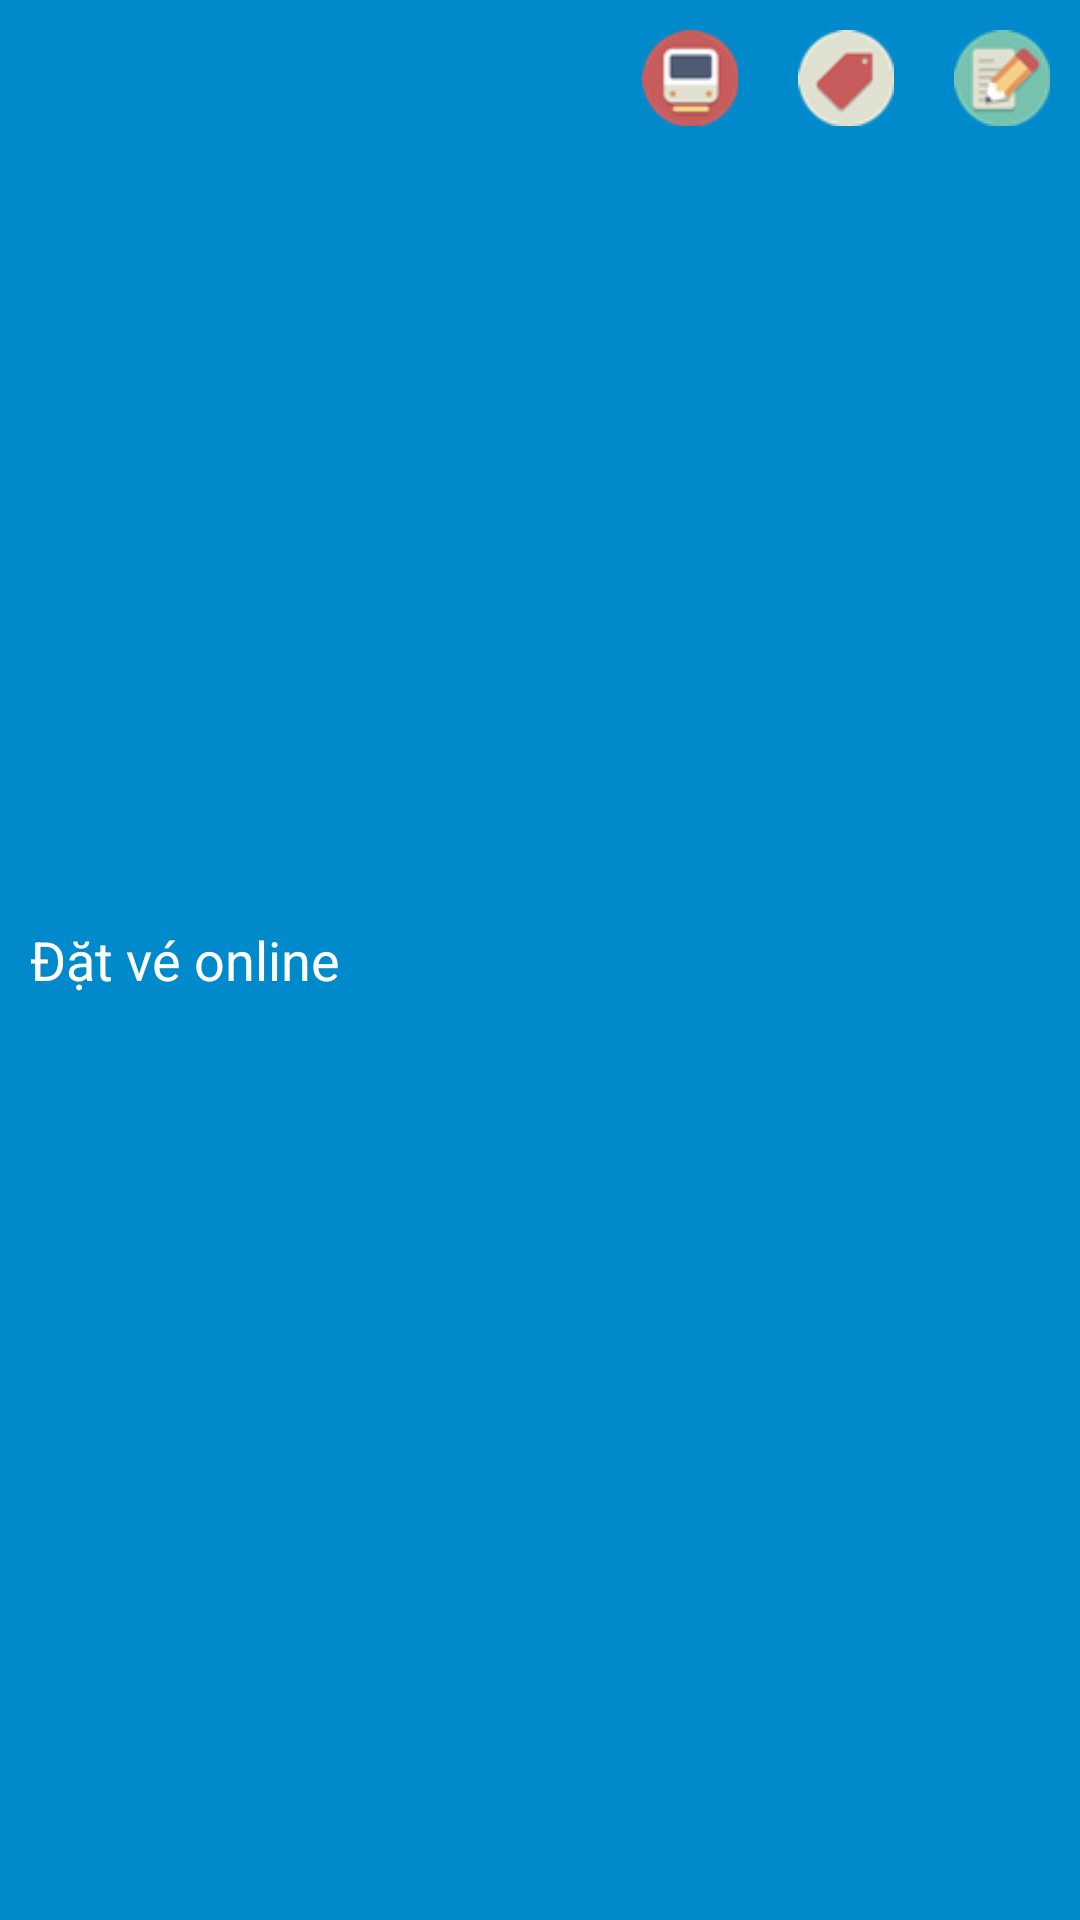

Icons on this 1080 x 1920 Android screen, each with its box as (x1, y1, x2, y2):
booking: (954, 30, 1050, 126)
